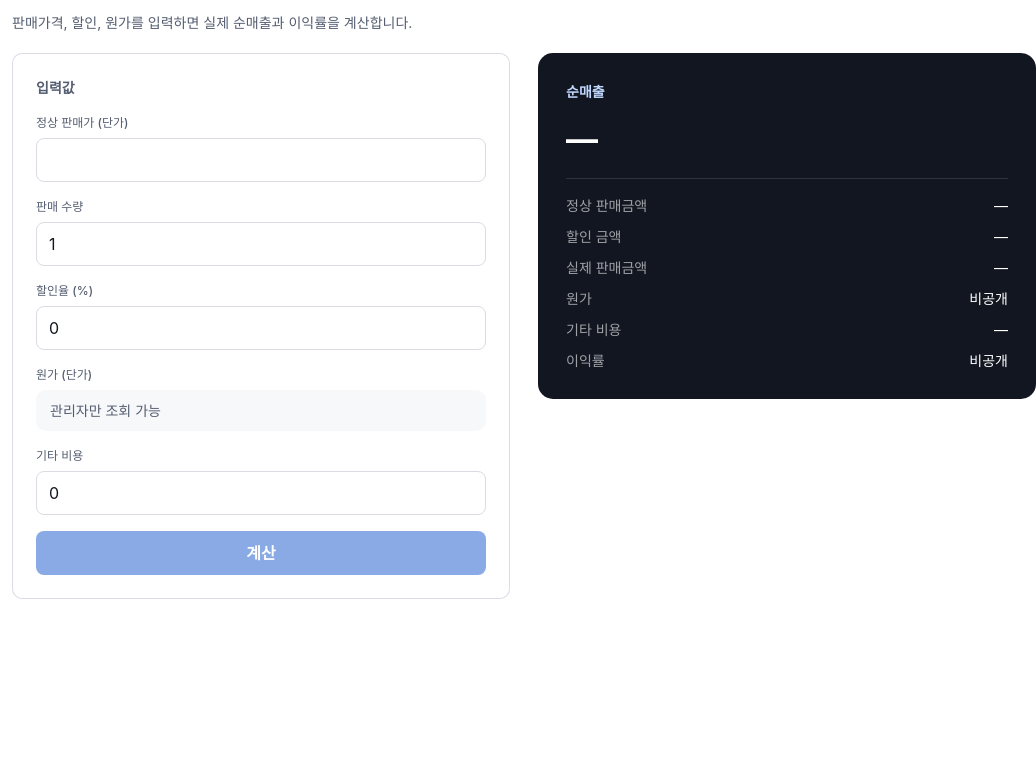
Test case: MarginCalculator (AC-64) › USER: 원가 입력 잠금 "관리자만 조회 가능", 결과에 원가·이익률 비공개
Check: the message named "원가 잠금" reads "관리자만 조회 가능", box [50,402,161,419]
Type "1000" into the field labelled "정상 판매가 (단가)" at (261, 160), box [36,138,486,182]
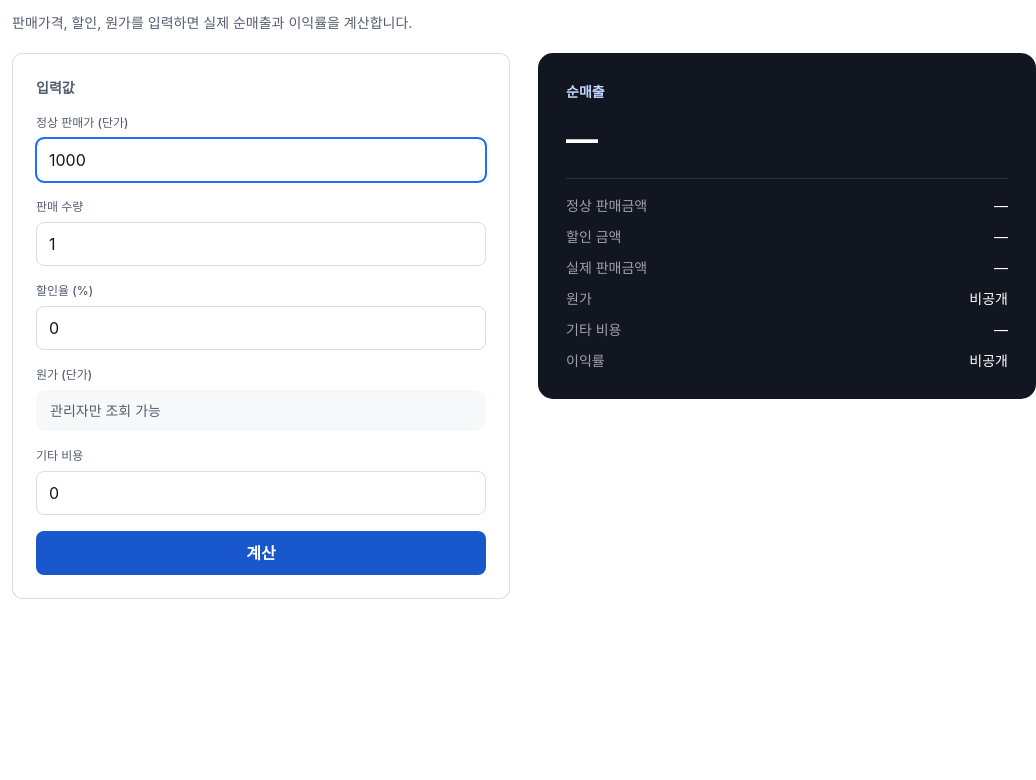
Replace the text in the field labelled "판매 수량" with "2" at (261, 244), box [36,222,486,266]
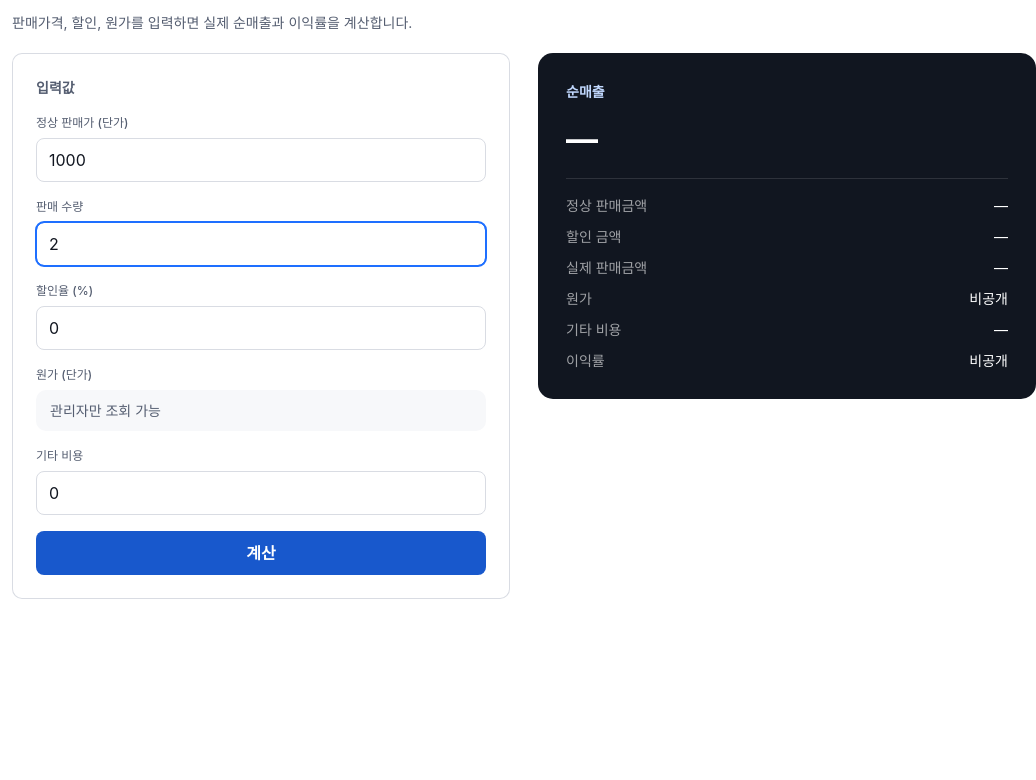
Type "100" into the field labelled "기타 비용" at (261, 493), box [36,471,486,515]
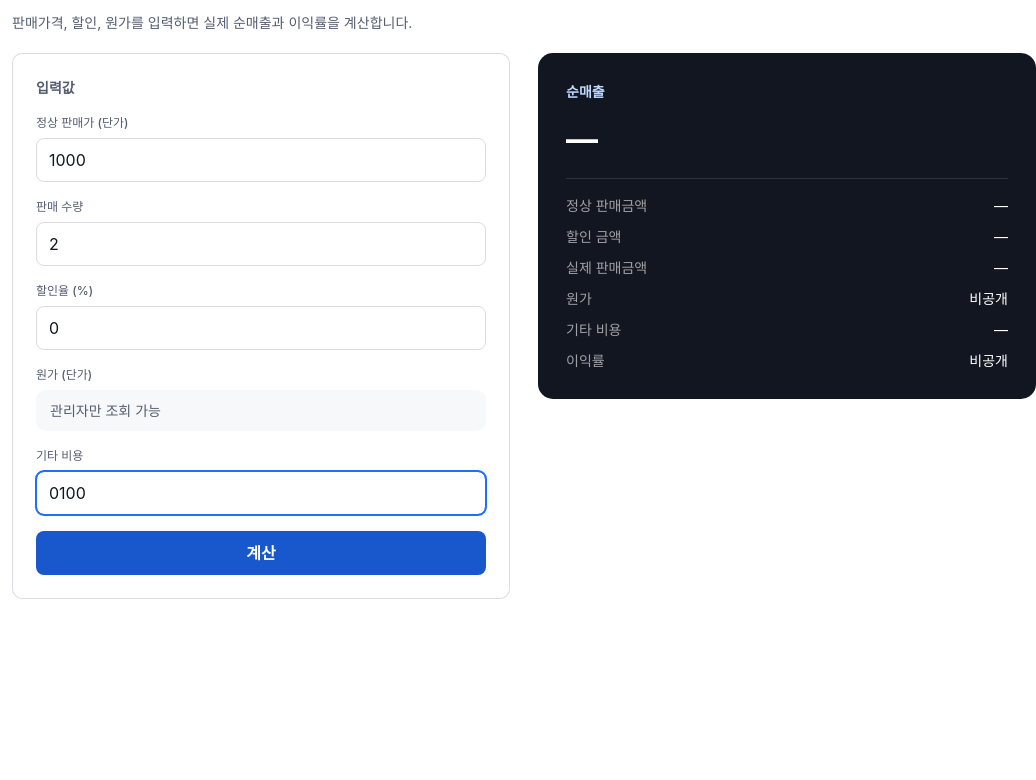
Click the button "계산" at (261, 553), box [36,531,486,575]
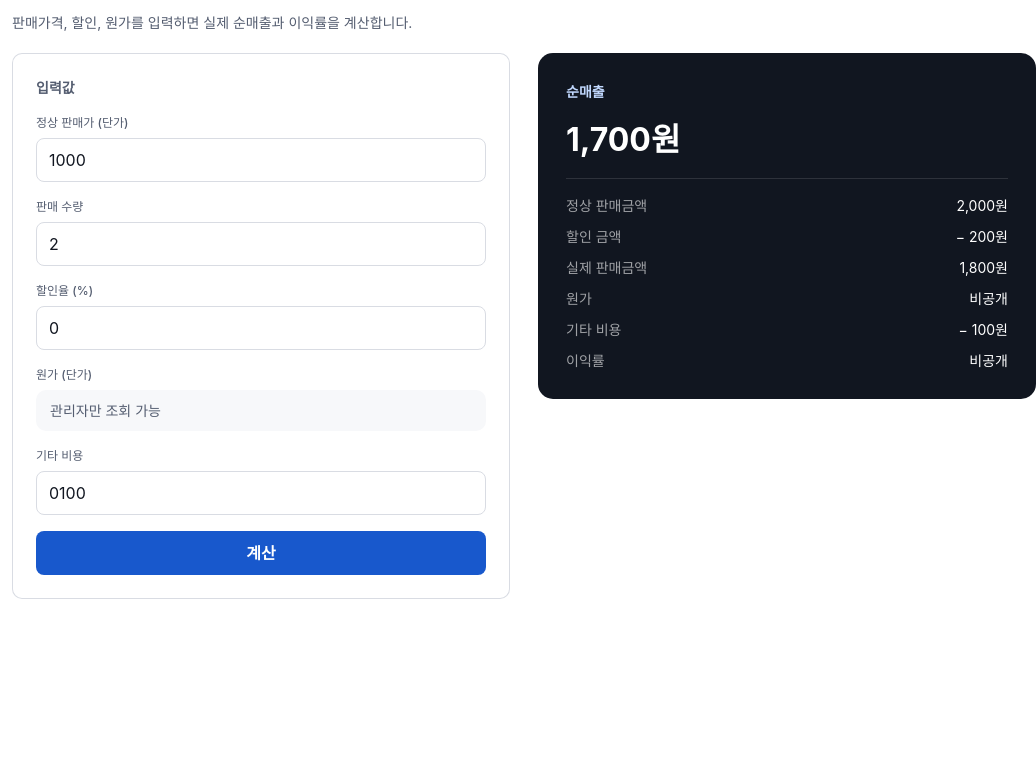
Check: the element named "순매출 결과" shows "비공개", box [969,290,1008,307]
Check: the text with test id "margin-net" reads "1,700원", box [566,120,680,159]
